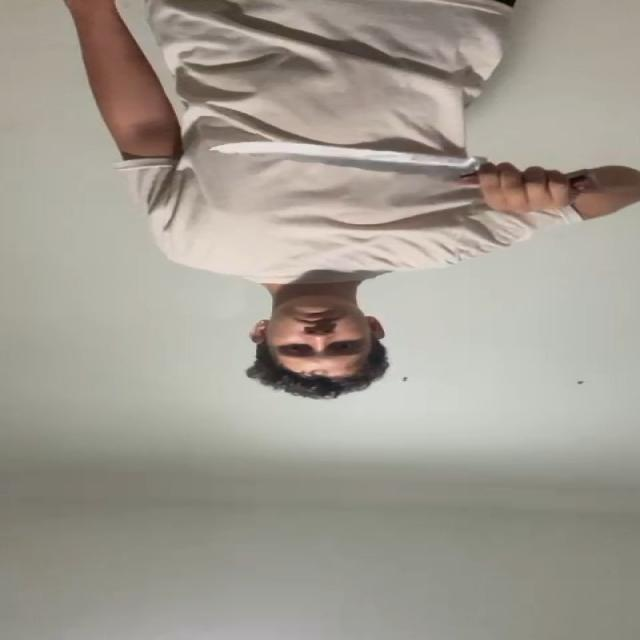knife: (204, 140, 478, 181)
